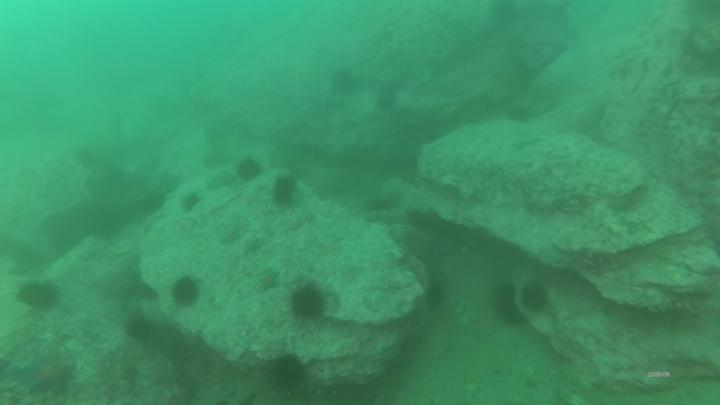echinus: (19, 280, 59, 307), (492, 289, 521, 323), (292, 285, 321, 318), (273, 356, 300, 386), (171, 278, 199, 306), (523, 282, 547, 313), (375, 82, 398, 108), (333, 69, 355, 92), (235, 158, 259, 179), (274, 178, 292, 202), (126, 317, 150, 335), (180, 195, 200, 210)
starfish: (14, 356, 69, 392), (260, 270, 280, 291), (218, 224, 242, 241)
